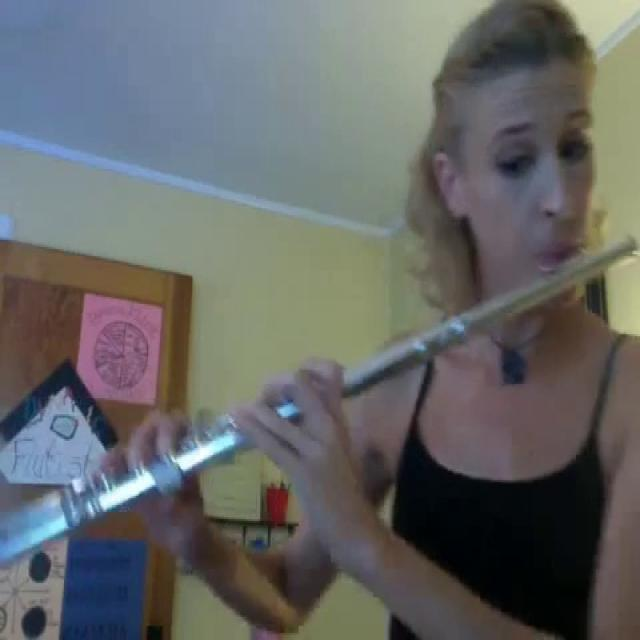Flute: (3, 206, 639, 588)
